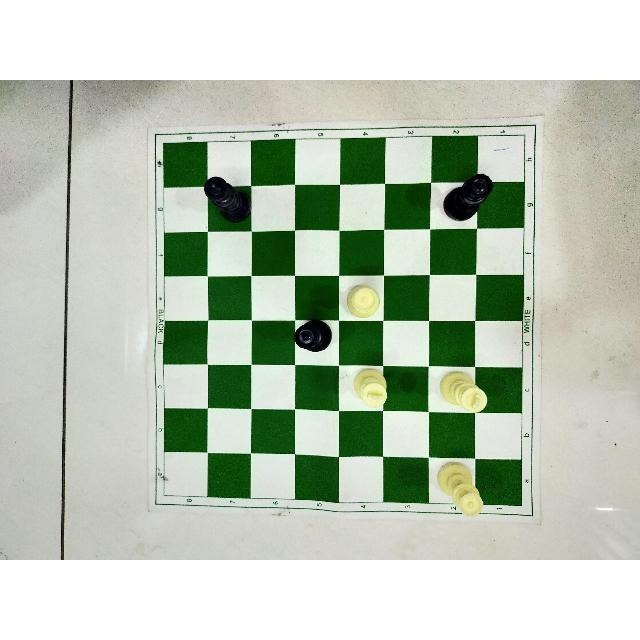black-queen: (444, 172, 494, 221), (294, 318, 334, 352)
white-king: (202, 174, 254, 228), (440, 369, 490, 418), (352, 366, 388, 414)
white-queen: (435, 457, 487, 519), (342, 284, 382, 322)
